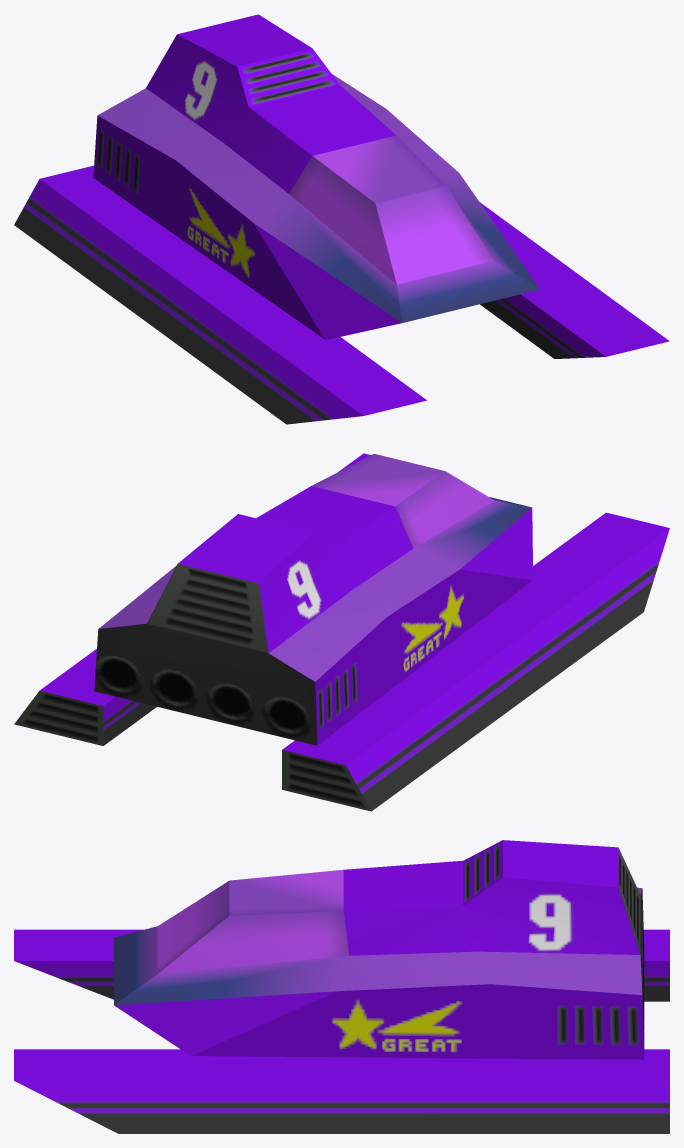
3 renders of one model, top to bottom at view 1: azimuth 30°, elevation 25°; view 2: azimuth 150°, elevation 25°; view 3: azimuth 270°, elevation 25°, orthographic.
Parts seen in each view (by area): view 1: Joint_0_Object_0; view 2: Joint_0_Object_0; view 3: Joint_0_Object_0.
Part boxes in pixels (left/top/right/bottom): Joint_0_Object_0: left=14, top=14, right=669, bottom=424; Joint_0_Object_0: left=14, top=453, right=669, bottom=811; Joint_0_Object_0: left=14, top=840, right=669, bottom=1133.
Size of the model in its own units: 30.81 by 15.2 by 48.39.
Materials: 1 (1 with a texture image).
